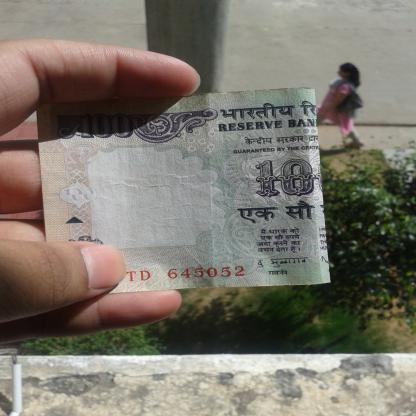Old100Front: (35, 87, 332, 293)
